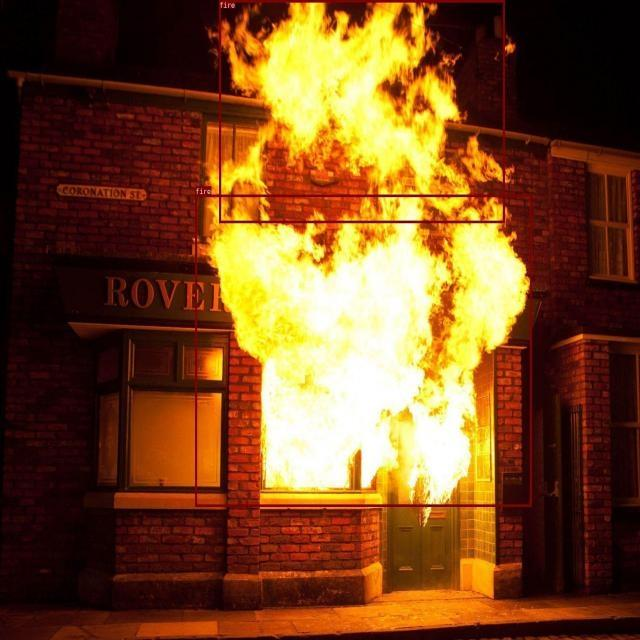fire: (195, 194, 531, 506), (219, 0, 504, 222)
